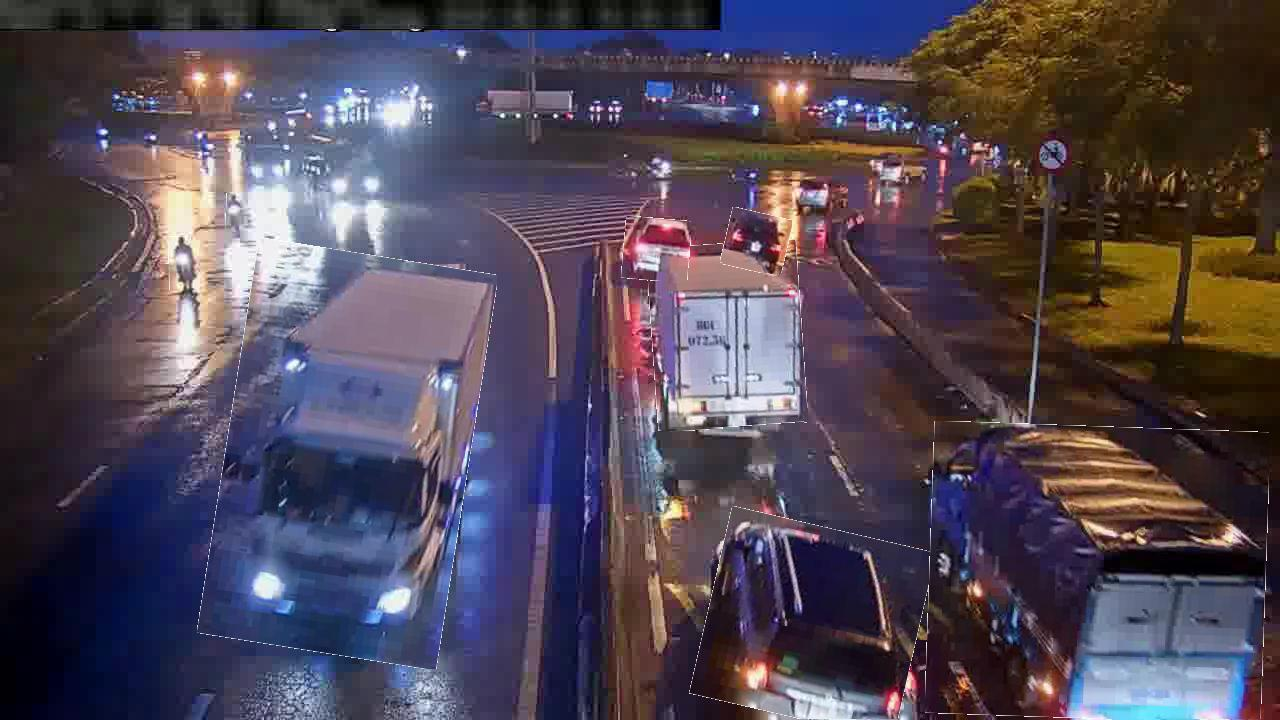8: (212, 246, 484, 662), (927, 424, 1269, 719), (649, 242, 805, 430)
container: (698, 516, 927, 719), (623, 218, 691, 282), (723, 210, 791, 274)
motorbike: (169, 236, 198, 291), (226, 193, 241, 231)
